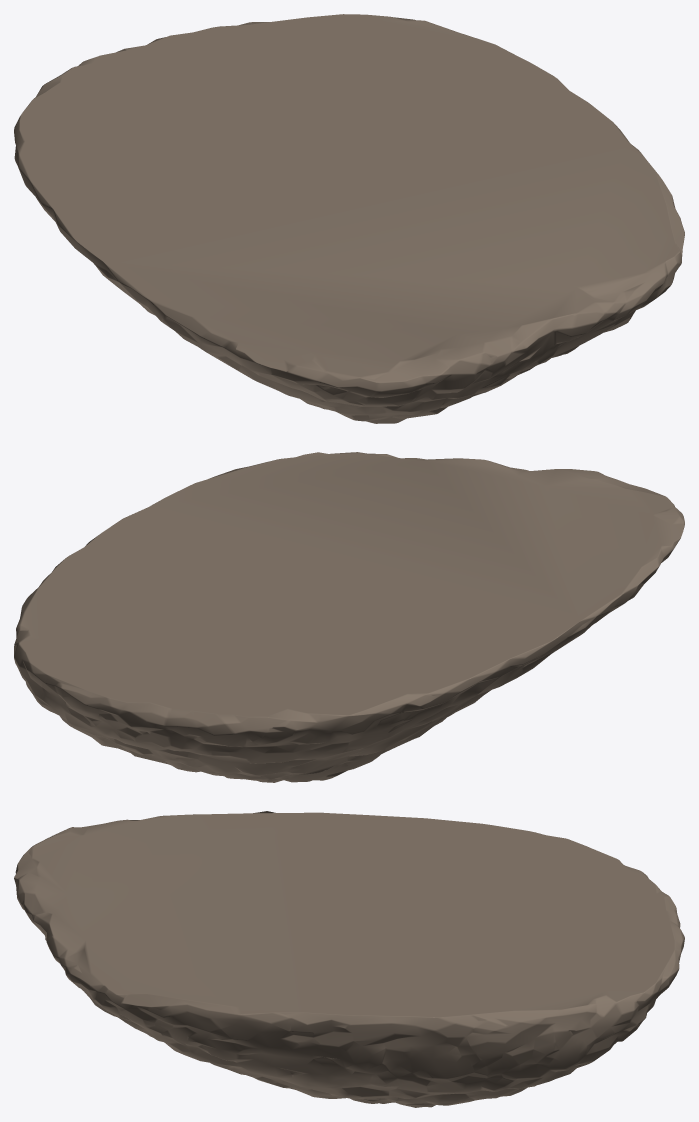
File: IlhaG2.fbx
3 views of the same model, one above another, from view 1: azimuth 30°, elevation 25°; view 2: azimuth 150°, elevation 25°; view 3: azimuth 270°, elevation 25° (orthographic). The views are drawn at different scales.
Visible parts, largest first — view 1: IlhaG2; view 2: IlhaG2; view 3: IlhaG2.
Part boxes in pixels (x1,y1,x2,y2): IlhaG2: (14, 14, 684, 423); IlhaG2: (14, 452, 684, 782); IlhaG2: (14, 811, 684, 1107).
Bounding box in the file's own units: 6270 × 2272 × 8464.
